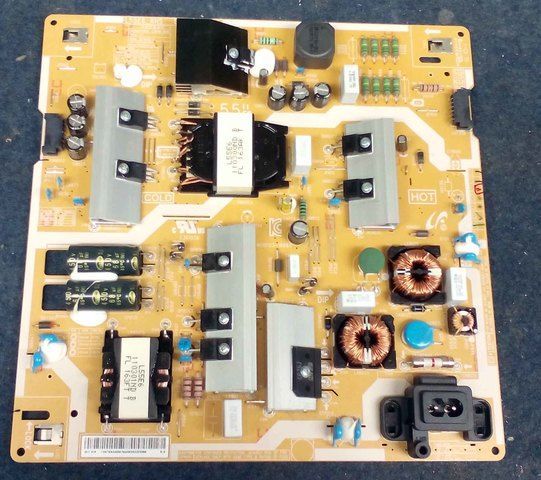capacitor: (262, 83, 292, 113), (309, 77, 333, 111), (62, 136, 93, 162), (286, 216, 311, 248), (289, 75, 309, 112), (65, 112, 87, 131), (68, 93, 87, 113)
